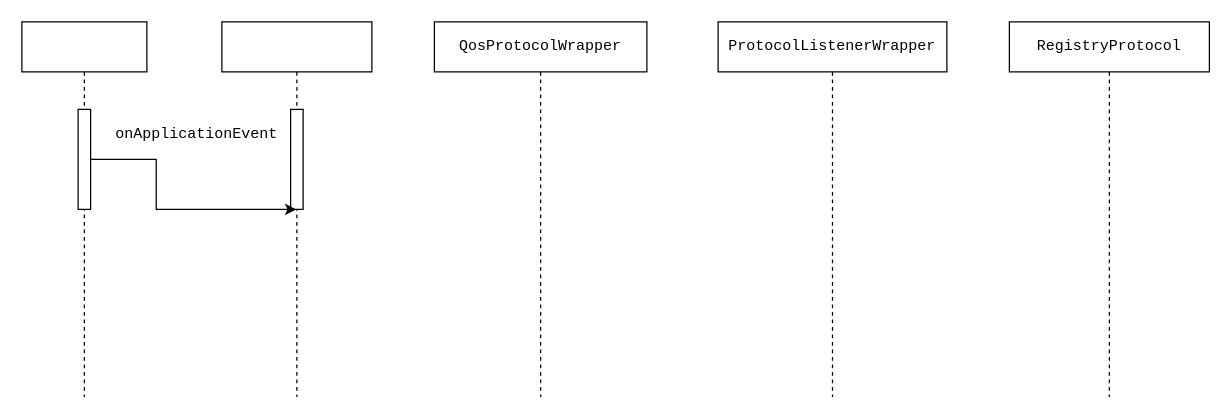
The diagram is 1231 pixels wide and 419 high, and some of its shapes have lost their labels. Here are the shapes that lost their labels. From the top down, the centre of each, then its label:
point (84, 209): ServiceBean
point (296, 209): ServiceConfig
